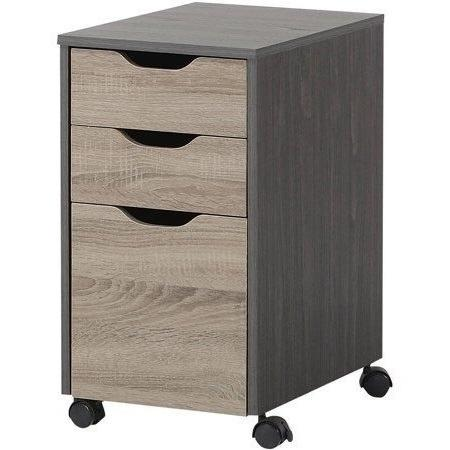cabinet_door: (73, 209, 250, 407), (68, 50, 244, 132), (73, 129, 248, 207)
handle: (117, 205, 198, 233), (117, 127, 200, 151), (121, 52, 194, 76), (250, 414, 291, 450)
